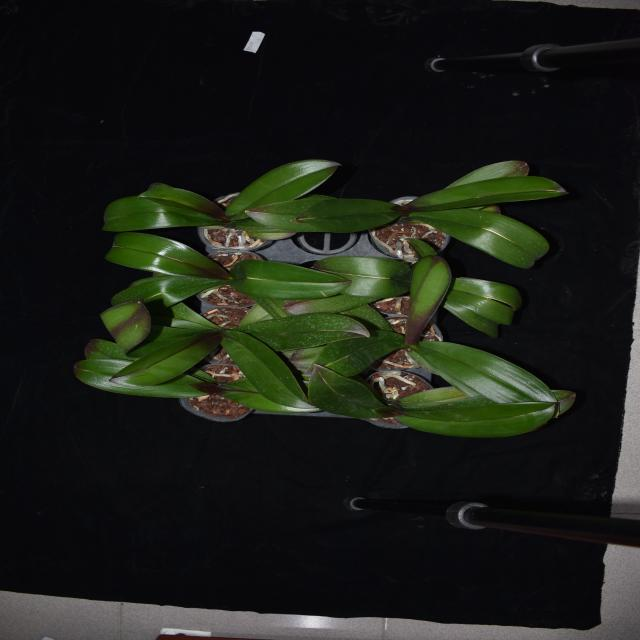leaf: (408, 343, 557, 419), (405, 207, 552, 270), (221, 330, 314, 408), (222, 158, 341, 216), (100, 300, 218, 358), (108, 332, 222, 386), (105, 231, 232, 279), (398, 399, 555, 437), (404, 176, 568, 212), (72, 358, 214, 396), (440, 275, 522, 339), (230, 259, 352, 300), (304, 332, 409, 377), (235, 315, 370, 350), (305, 256, 411, 300), (306, 362, 384, 418), (407, 255, 454, 345), (291, 196, 405, 233), (104, 196, 220, 232), (107, 276, 227, 310), (244, 194, 340, 236), (216, 377, 322, 412), (441, 160, 533, 191), (138, 187, 224, 220), (401, 387, 486, 410), (284, 295, 379, 315), (339, 301, 396, 333), (162, 301, 221, 328), (83, 338, 121, 360), (406, 237, 437, 256), (190, 380, 218, 395), (371, 404, 398, 418)
